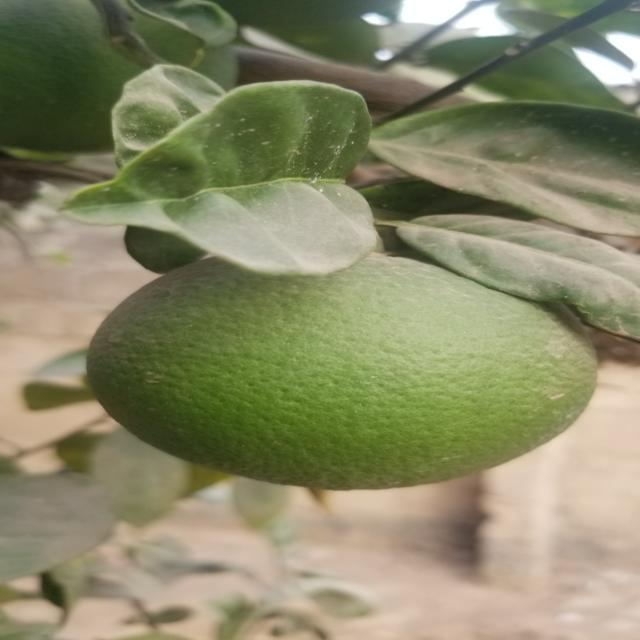Unripe: (82, 243, 594, 490)
